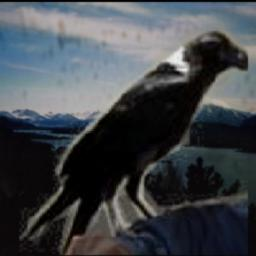Crow: (16, 21, 249, 256)
